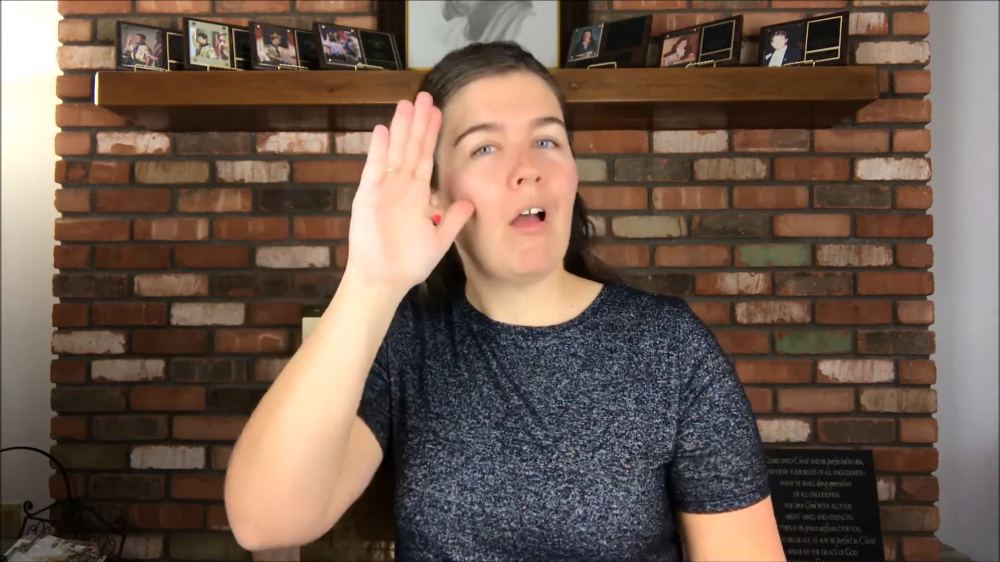hello: (348, 91, 475, 299)
